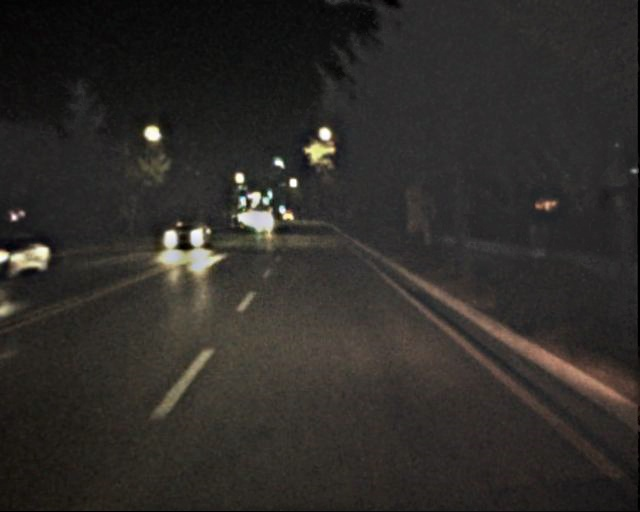person: (529, 202, 556, 278)
